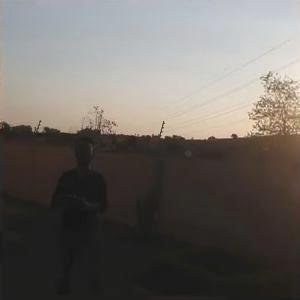follow: (42, 129, 114, 299)
